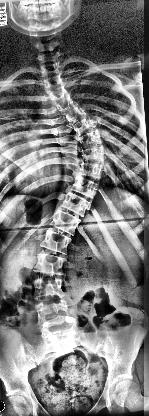Vertebrae: (32, 230, 74, 256), (28, 251, 68, 278), (40, 318, 82, 340), (47, 210, 81, 236), (34, 302, 78, 322), (30, 280, 72, 300), (58, 192, 91, 216), (69, 175, 101, 199), (64, 104, 92, 126), (74, 117, 102, 137), (80, 144, 110, 162), (80, 131, 108, 149), (55, 95, 82, 113), (77, 162, 105, 178), (48, 86, 72, 104), (42, 76, 68, 92), (38, 64, 64, 80)
